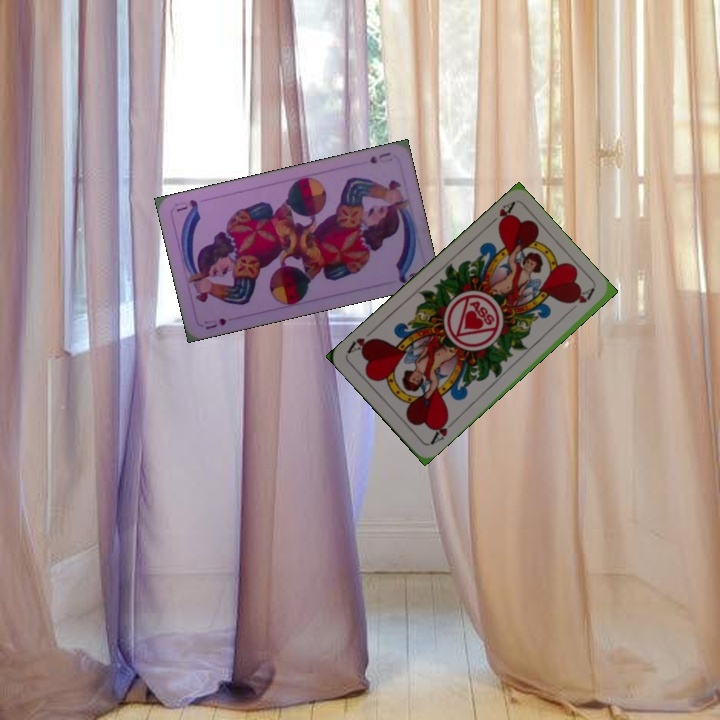HA: (426, 413, 458, 448), (483, 198, 517, 230)
SU: (365, 148, 395, 166), (200, 314, 229, 332)
